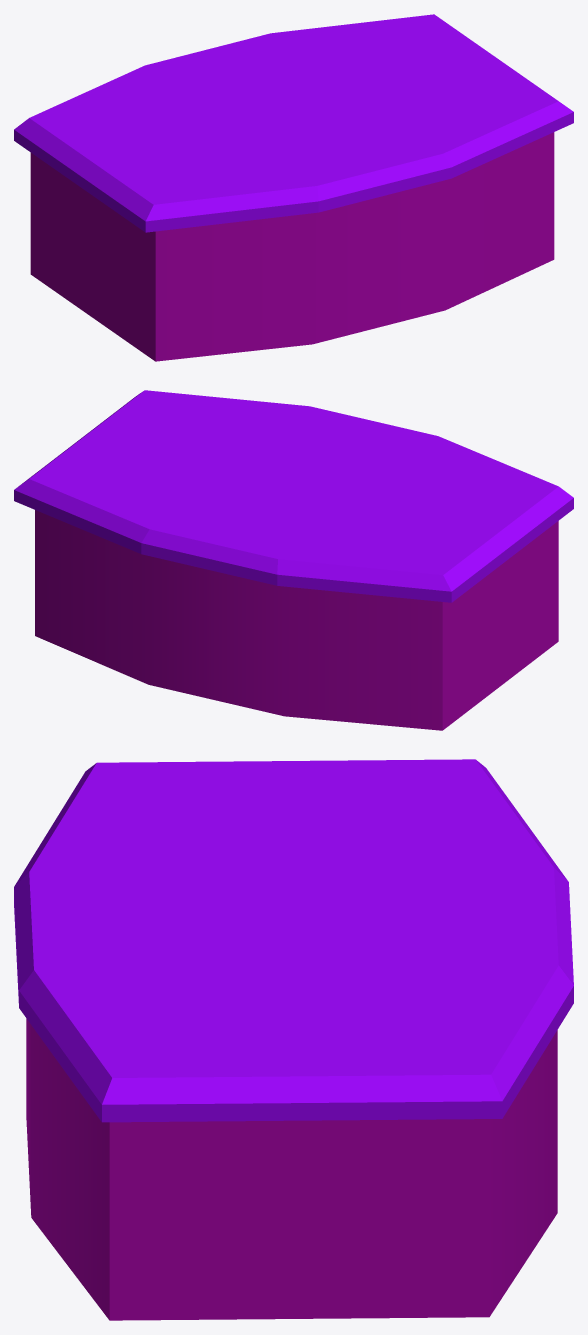
Rendered from Food container1.fbx.
The picture shows the model from 3 angles, top to bottom: view 1: azimuth 30°, elevation 25°; view 2: azimuth 150°, elevation 25°; view 3: azimuth 270°, elevation 25°; orthographic projection. The views are drawn at different scales.
Parts seen in each view (by area): view 1: Food container1_Door, Food container1; view 2: Food container1_Door, Food container1; view 3: Food container1_Door, Food container1.
Part boxes in pixels (x1=…): Food container1_Door: x1=14, y1=14, x2=573, y2=232; Food container1: x1=30, y1=132, x2=554, y2=361; Food container1_Door: x1=14, y1=390, x2=573, y2=602; Food container1: x1=35, y1=510, x2=558, y2=730; Food container1_Door: x1=14, y1=759, x2=573, y2=1122; Food container1: x1=26, y1=1018, x2=557, y2=1320.
Bounding box in the file's own units: 43.02 × 14.68 × 30.21.
